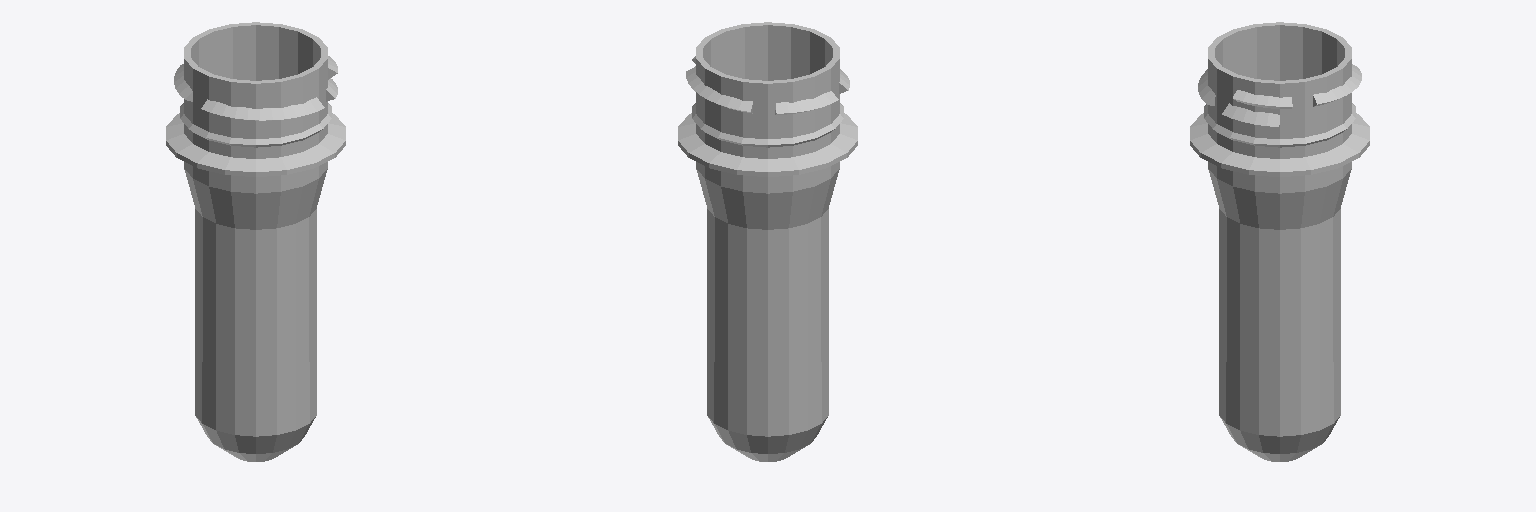
Rendered from mdl_preforma_pet_33mm.obj.
3 views of the same model, side by side, from view 1: azimuth 30°, elevation 25°; view 2: azimuth 150°, elevation 25°; view 3: azimuth 270°, elevation 25° (orthographic).
Visible parts, largest first — view 1: mdl_preforma_pet_33mm; view 2: mdl_preforma_pet_33mm; view 3: mdl_preforma_pet_33mm.
Part boxes in pixels (bbox=[...]): mdl_preforma_pet_33mm: bbox=[166, 22, 345, 461]; mdl_preforma_pet_33mm: bbox=[678, 22, 857, 461]; mdl_preforma_pet_33mm: bbox=[1190, 22, 1369, 461].
Size of the model in its own units: 3.76 by 9.21 by 3.71.